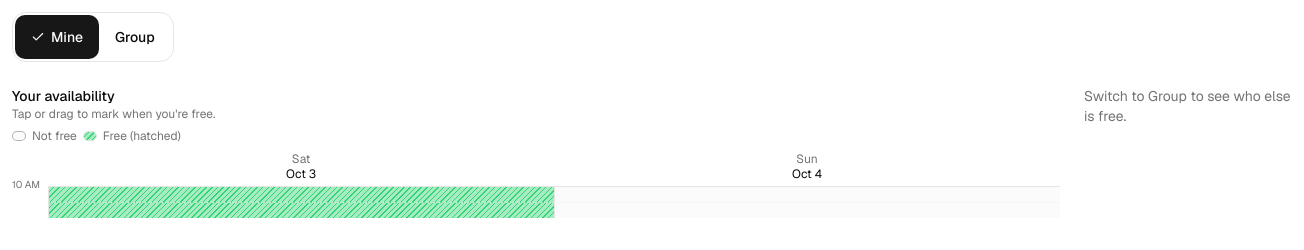
AvailabilityGrid › group range › lists nobody when someone misses a slot in a multi-day range
Click the button "Group": {"x": 135, "y": 37} 99,15 -> 171,59
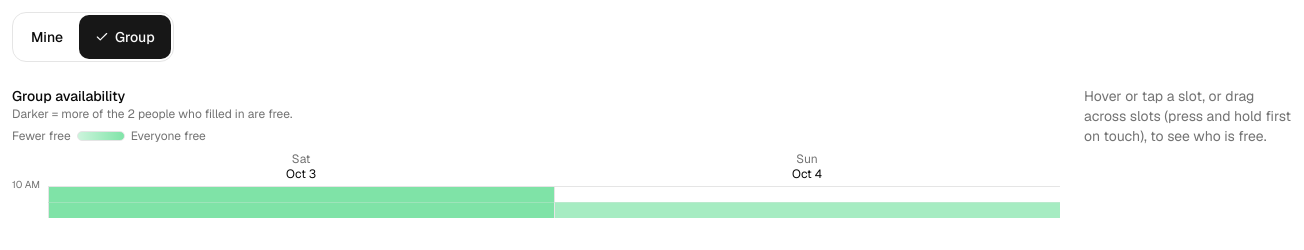
Press the mouse on the button named "Sat, Oct 3, 10:00 AM: 2 of 2 free": {"x": 301, "y": 194} 48,186 -> 554,202
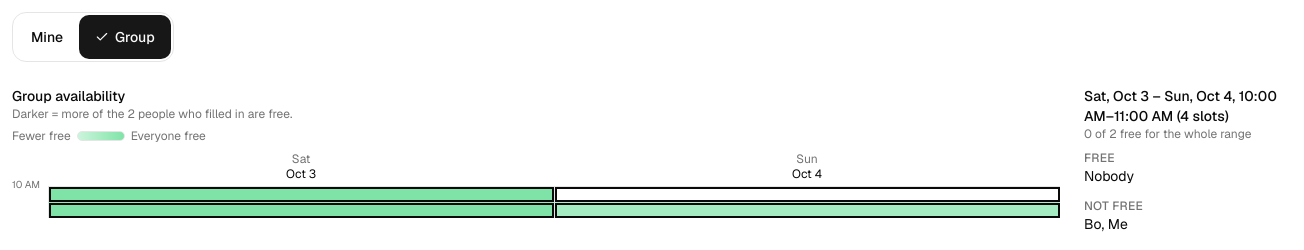
Expected: the text "Sat, Oct 3 – Sun, Oct 4, 10:00 AM–11:00 AM (4 slots)" is shown, 1084,87 -> 1277,125
Expected: the text "0 of 2 free for the whole range" is shown, 1084,126 -> 1252,142
Expected: the text "Nobody" is shown, 1084,167 -> 1134,185
